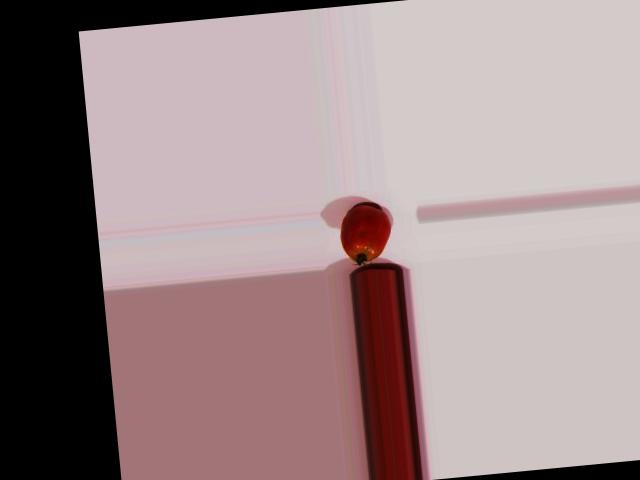tomato: (338, 203, 394, 264)
